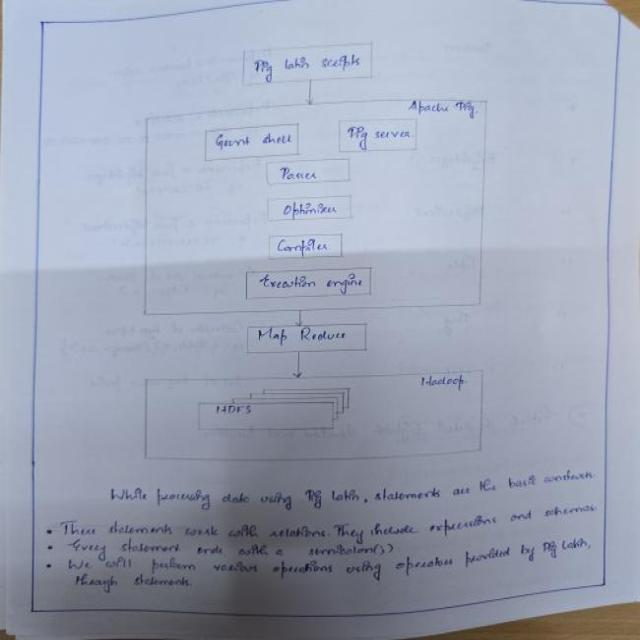Figure Detection - v3 Dataset Version2: (122, 21, 523, 471)
